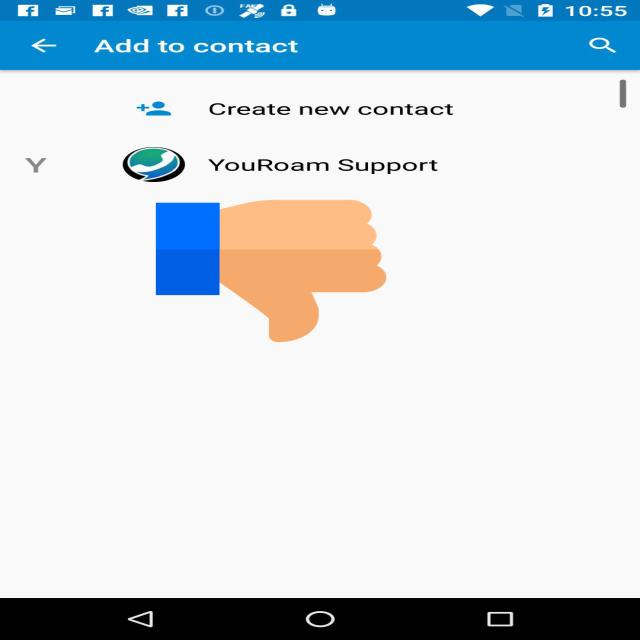obstruction: (156, 196, 386, 346)
